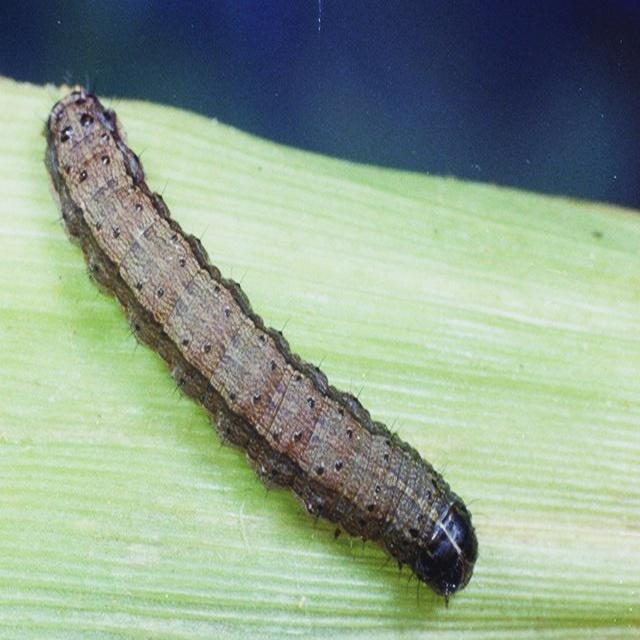gusano_cogollero: (38, 79, 482, 606)
